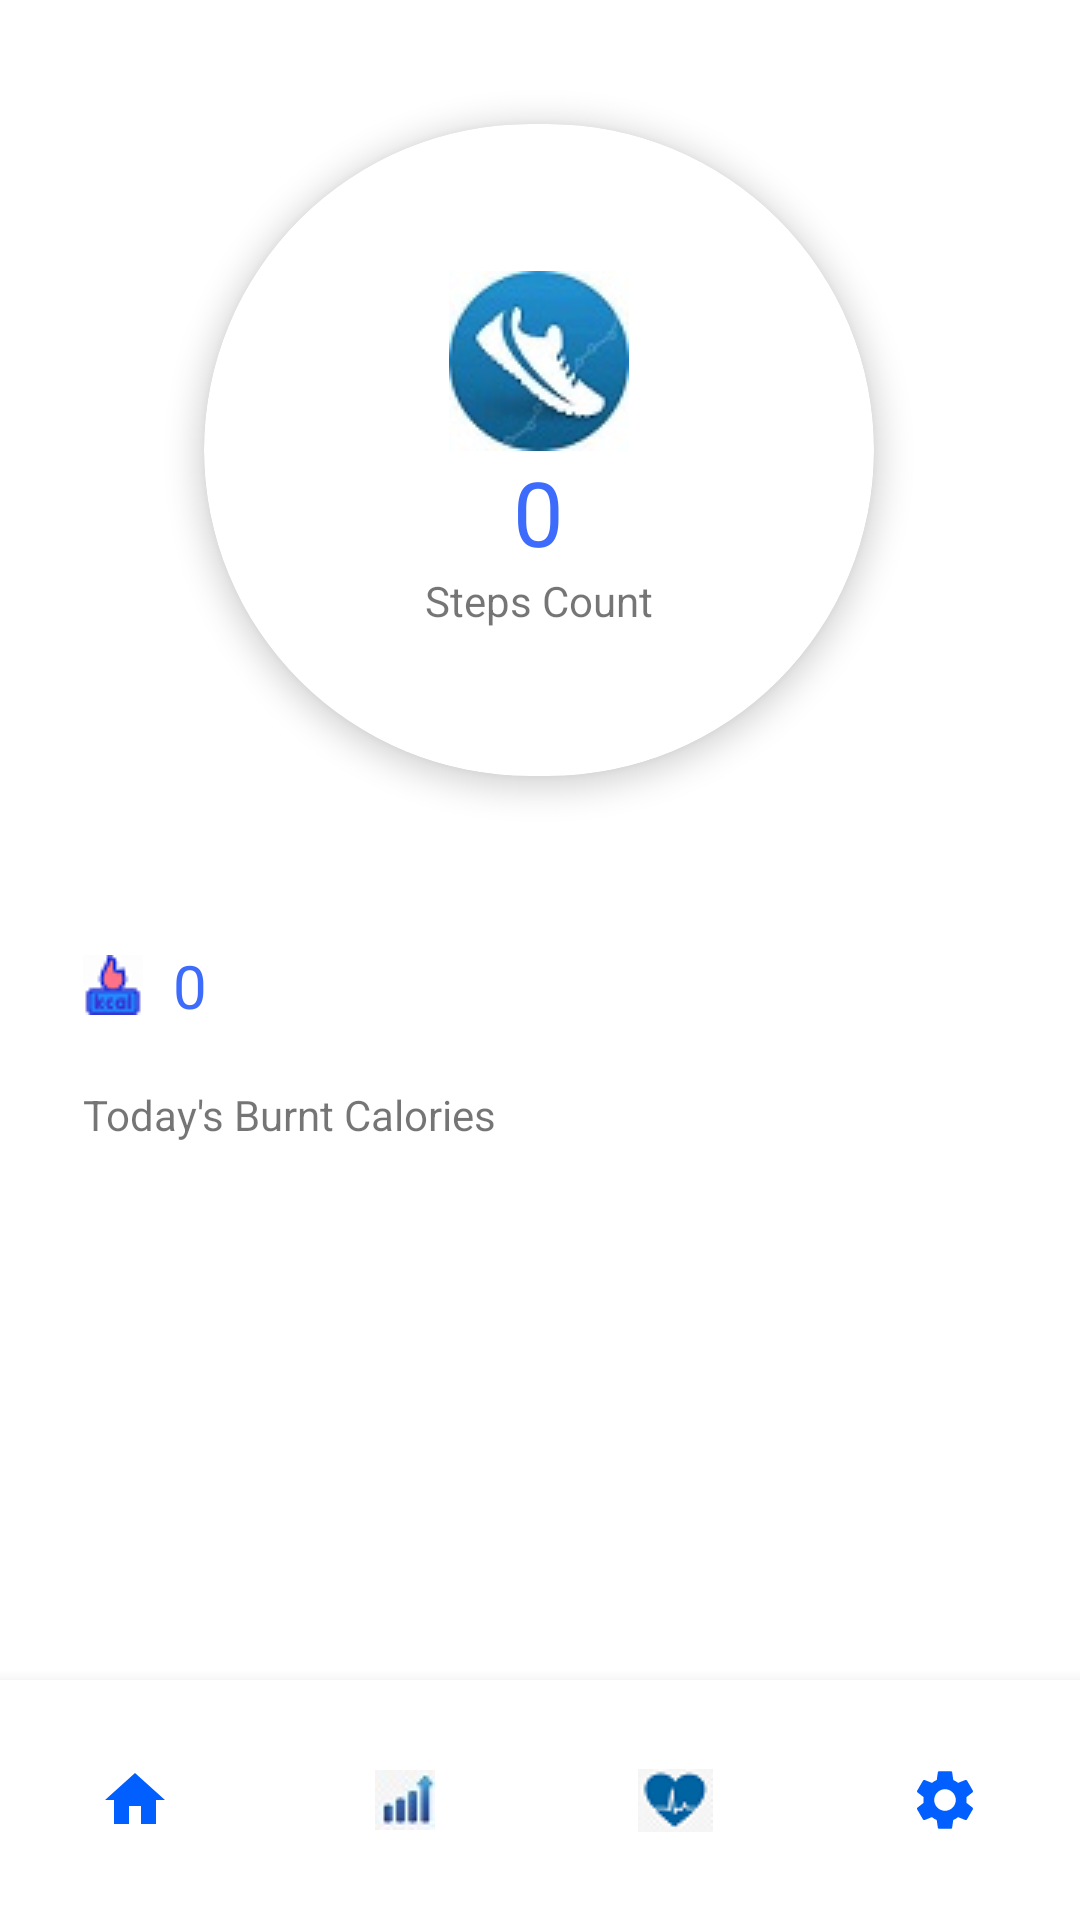

Named icons in this screenshot (1080px×1920px) and their bounding boxes, Rect(x1, y1, x2, y2):
foot: Rect(449, 271, 629, 451)
health: Rect(643, 1771, 708, 1827)
home: Rect(105, 1773, 165, 1824)
report: Rect(383, 1775, 435, 1825)
settings: Rect(917, 1771, 973, 1829)
